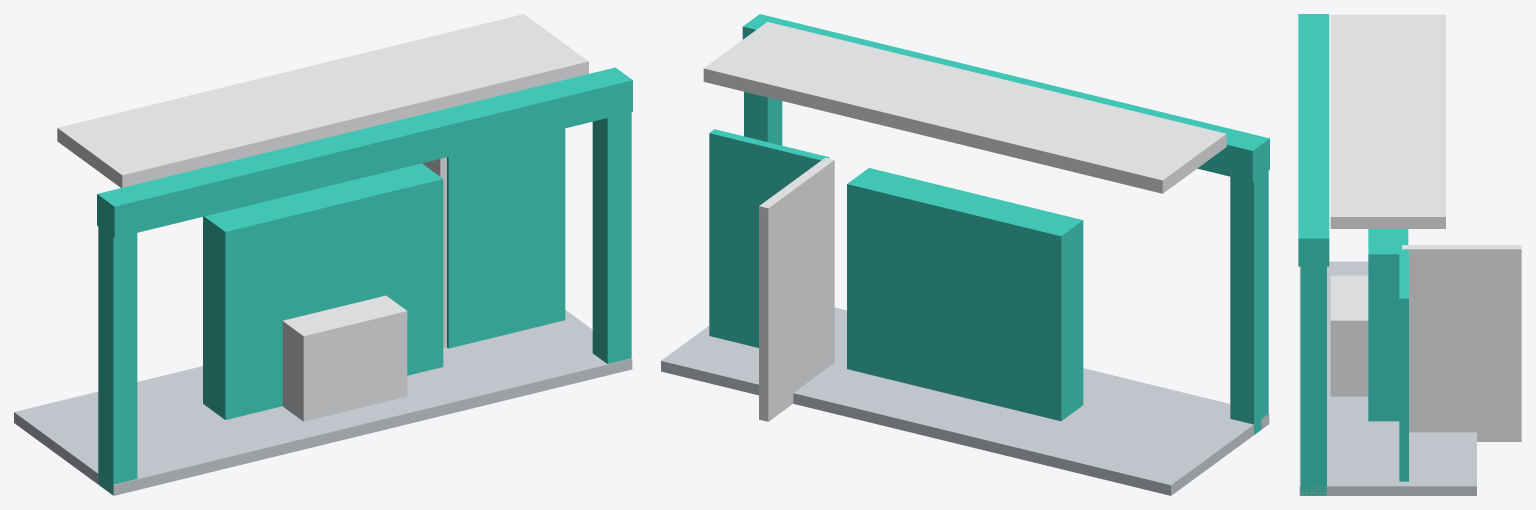
3 views of the same model, side by side, from view 1: azimuth 30°, elevation 25°; view 2: azimuth 150°, elevation 25°; view 3: azimuth 270°, elevation 25° (orthographic). The views are drawn at different scales.
Parts seen in each view (by area): view 1: Exhibition Booth Concept; view 2: Exhibition Booth Concept; view 3: Exhibition Booth Concept.
Boxes of the visible parts, <box> form: Exhibition Booth Concept: <box>14,14,632,495</box>; Exhibition Booth Concept: <box>661,14,1269,495</box>; Exhibition Booth Concept: <box>1298,14,1521,495</box>.
Bounding box in the file's own units: 6 × 3.34 × 2.52.
